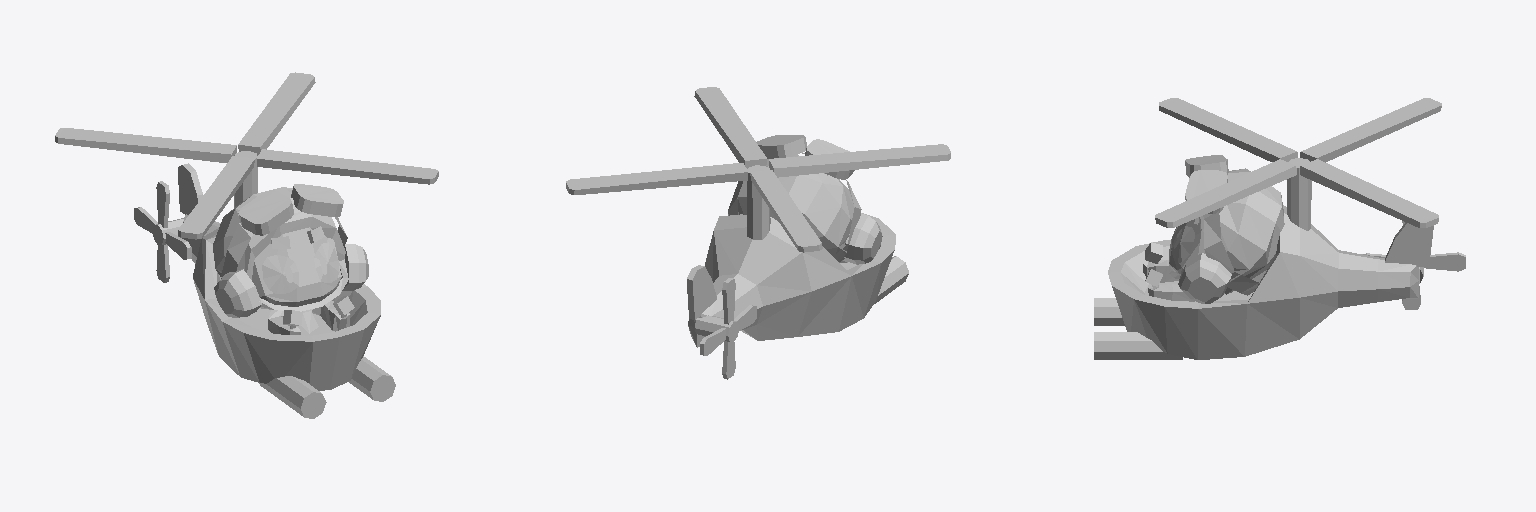
File: helipilot.obj
The picture shows the model from 3 angles: view 1: azimuth 30°, elevation 25°; view 2: azimuth 150°, elevation 25°; view 3: azimuth 270°, elevation 25°; orthographic projection.
Parts seen in each view (by area): view 1: FlatSkin_HeliPilot_HeliPilot; view 2: FlatSkin_HeliPilot_HeliPilot; view 3: FlatSkin_HeliPilot_HeliPilot.
Boxes of the visible parts, x1=… form: FlatSkin_HeliPilot_HeliPilot: x1=55, y1=72, x2=438, y2=418; FlatSkin_HeliPilot_HeliPilot: x1=566, y1=87, x2=950, y2=379; FlatSkin_HeliPilot_HeliPilot: x1=1094, y1=98, x2=1465, y2=359.
Bounding box in the file's own units: 30.52 × 21.96 × 37.97.